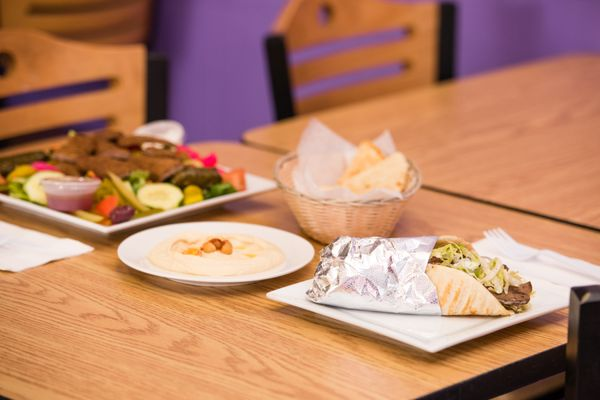sushi: (274, 124, 422, 244), (42, 176, 101, 212)
